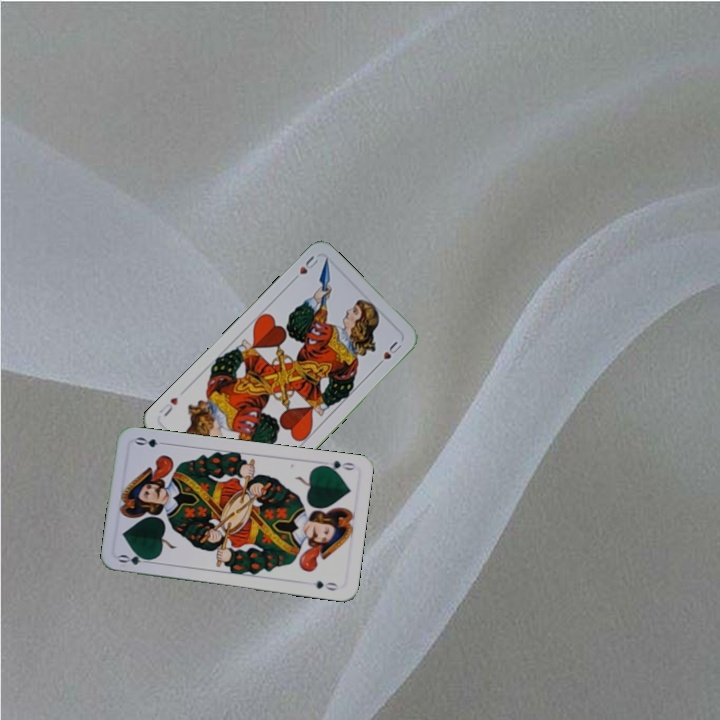GO: (317, 457, 358, 475), (115, 550, 156, 567)
HU: (288, 252, 321, 284)
